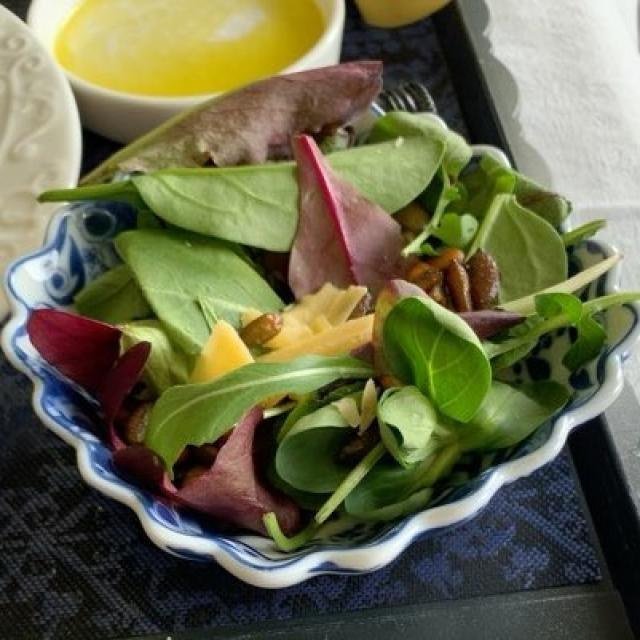salad: (52, 73, 615, 530)
